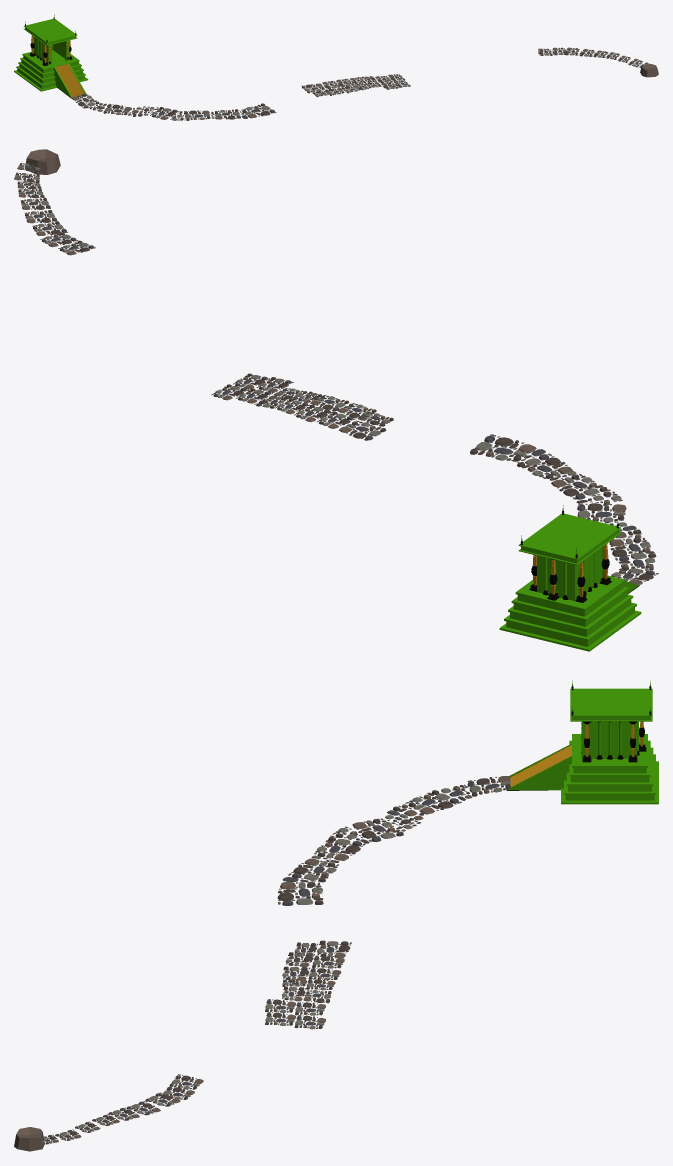
File: EscenarioCortoTemplofbx.fbx
3 renders of one model, top to bottom at view 1: azimuth 30°, elevation 25°; view 2: azimuth 150°, elevation 25°; view 3: azimuth 270°, elevation 25°, orthographic. The views are drawn at different scales.
Parts seen in each view (by area): view 1: Cube.021, Cubo.007, Cube.191, Cube.274, Cube.019, Cube.003; view 2: Cube.021, Cube.005, Cubo.007, Cubo.009, Cubo.001, Cubo.004, Cubo.005; view 3: Cube.021, Cube.004, Cube.018, Cubo.007.
Part boxes in pixels (left/top/right/bottom): Cube.021: left=24, top=18, right=77, bottom=42; Cubo.007: left=22, top=50, right=79, bottom=70; Cube.191: left=72, top=93, right=99, bottom=108; Cube.274: left=640, top=64, right=658, bottom=77; Cube.019: left=53, top=66, right=72, bottom=98; Cube.003: left=34, top=37, right=47, bottom=61; Cube.021: left=518, top=513, right=620, bottom=559; Cube.005: left=537, top=555, right=576, bottom=600; Cubo.007: left=515, top=575, right=625, bottom=610; Cubo.009: left=506, top=607, right=634, bottom=646; Cubo.001: left=499, top=610, right=641, bottom=651; Cubo.004: left=510, top=599, right=631, bottom=636; Cubo.005: left=513, top=591, right=627, bottom=626; Cube.021: left=570, top=688, right=652, bottom=716; Cube.004: left=585, top=721, right=635, bottom=758; Cube.018: left=507, top=756, right=571, bottom=790; Cubo.007: left=572, top=734, right=647, bottom=767.
Size of the model in its own units: 14800 by 1684 by 9787.
